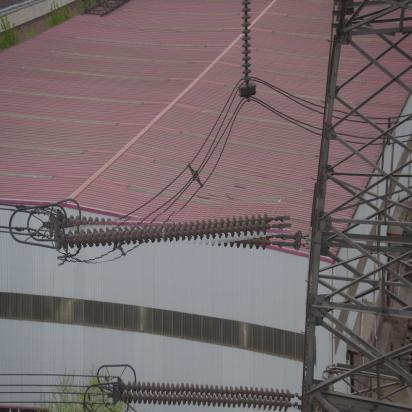insulator: (56, 204, 293, 262), (120, 379, 299, 412)
